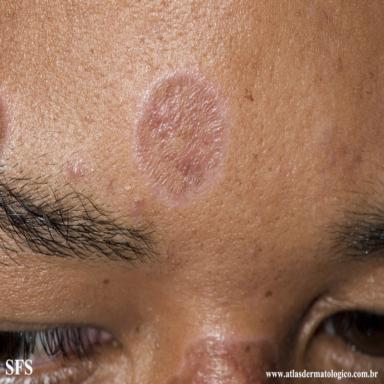Lupus-Erythematosus-Chronicus-Discoides: (135, 71, 227, 202), (175, 336, 277, 383)
